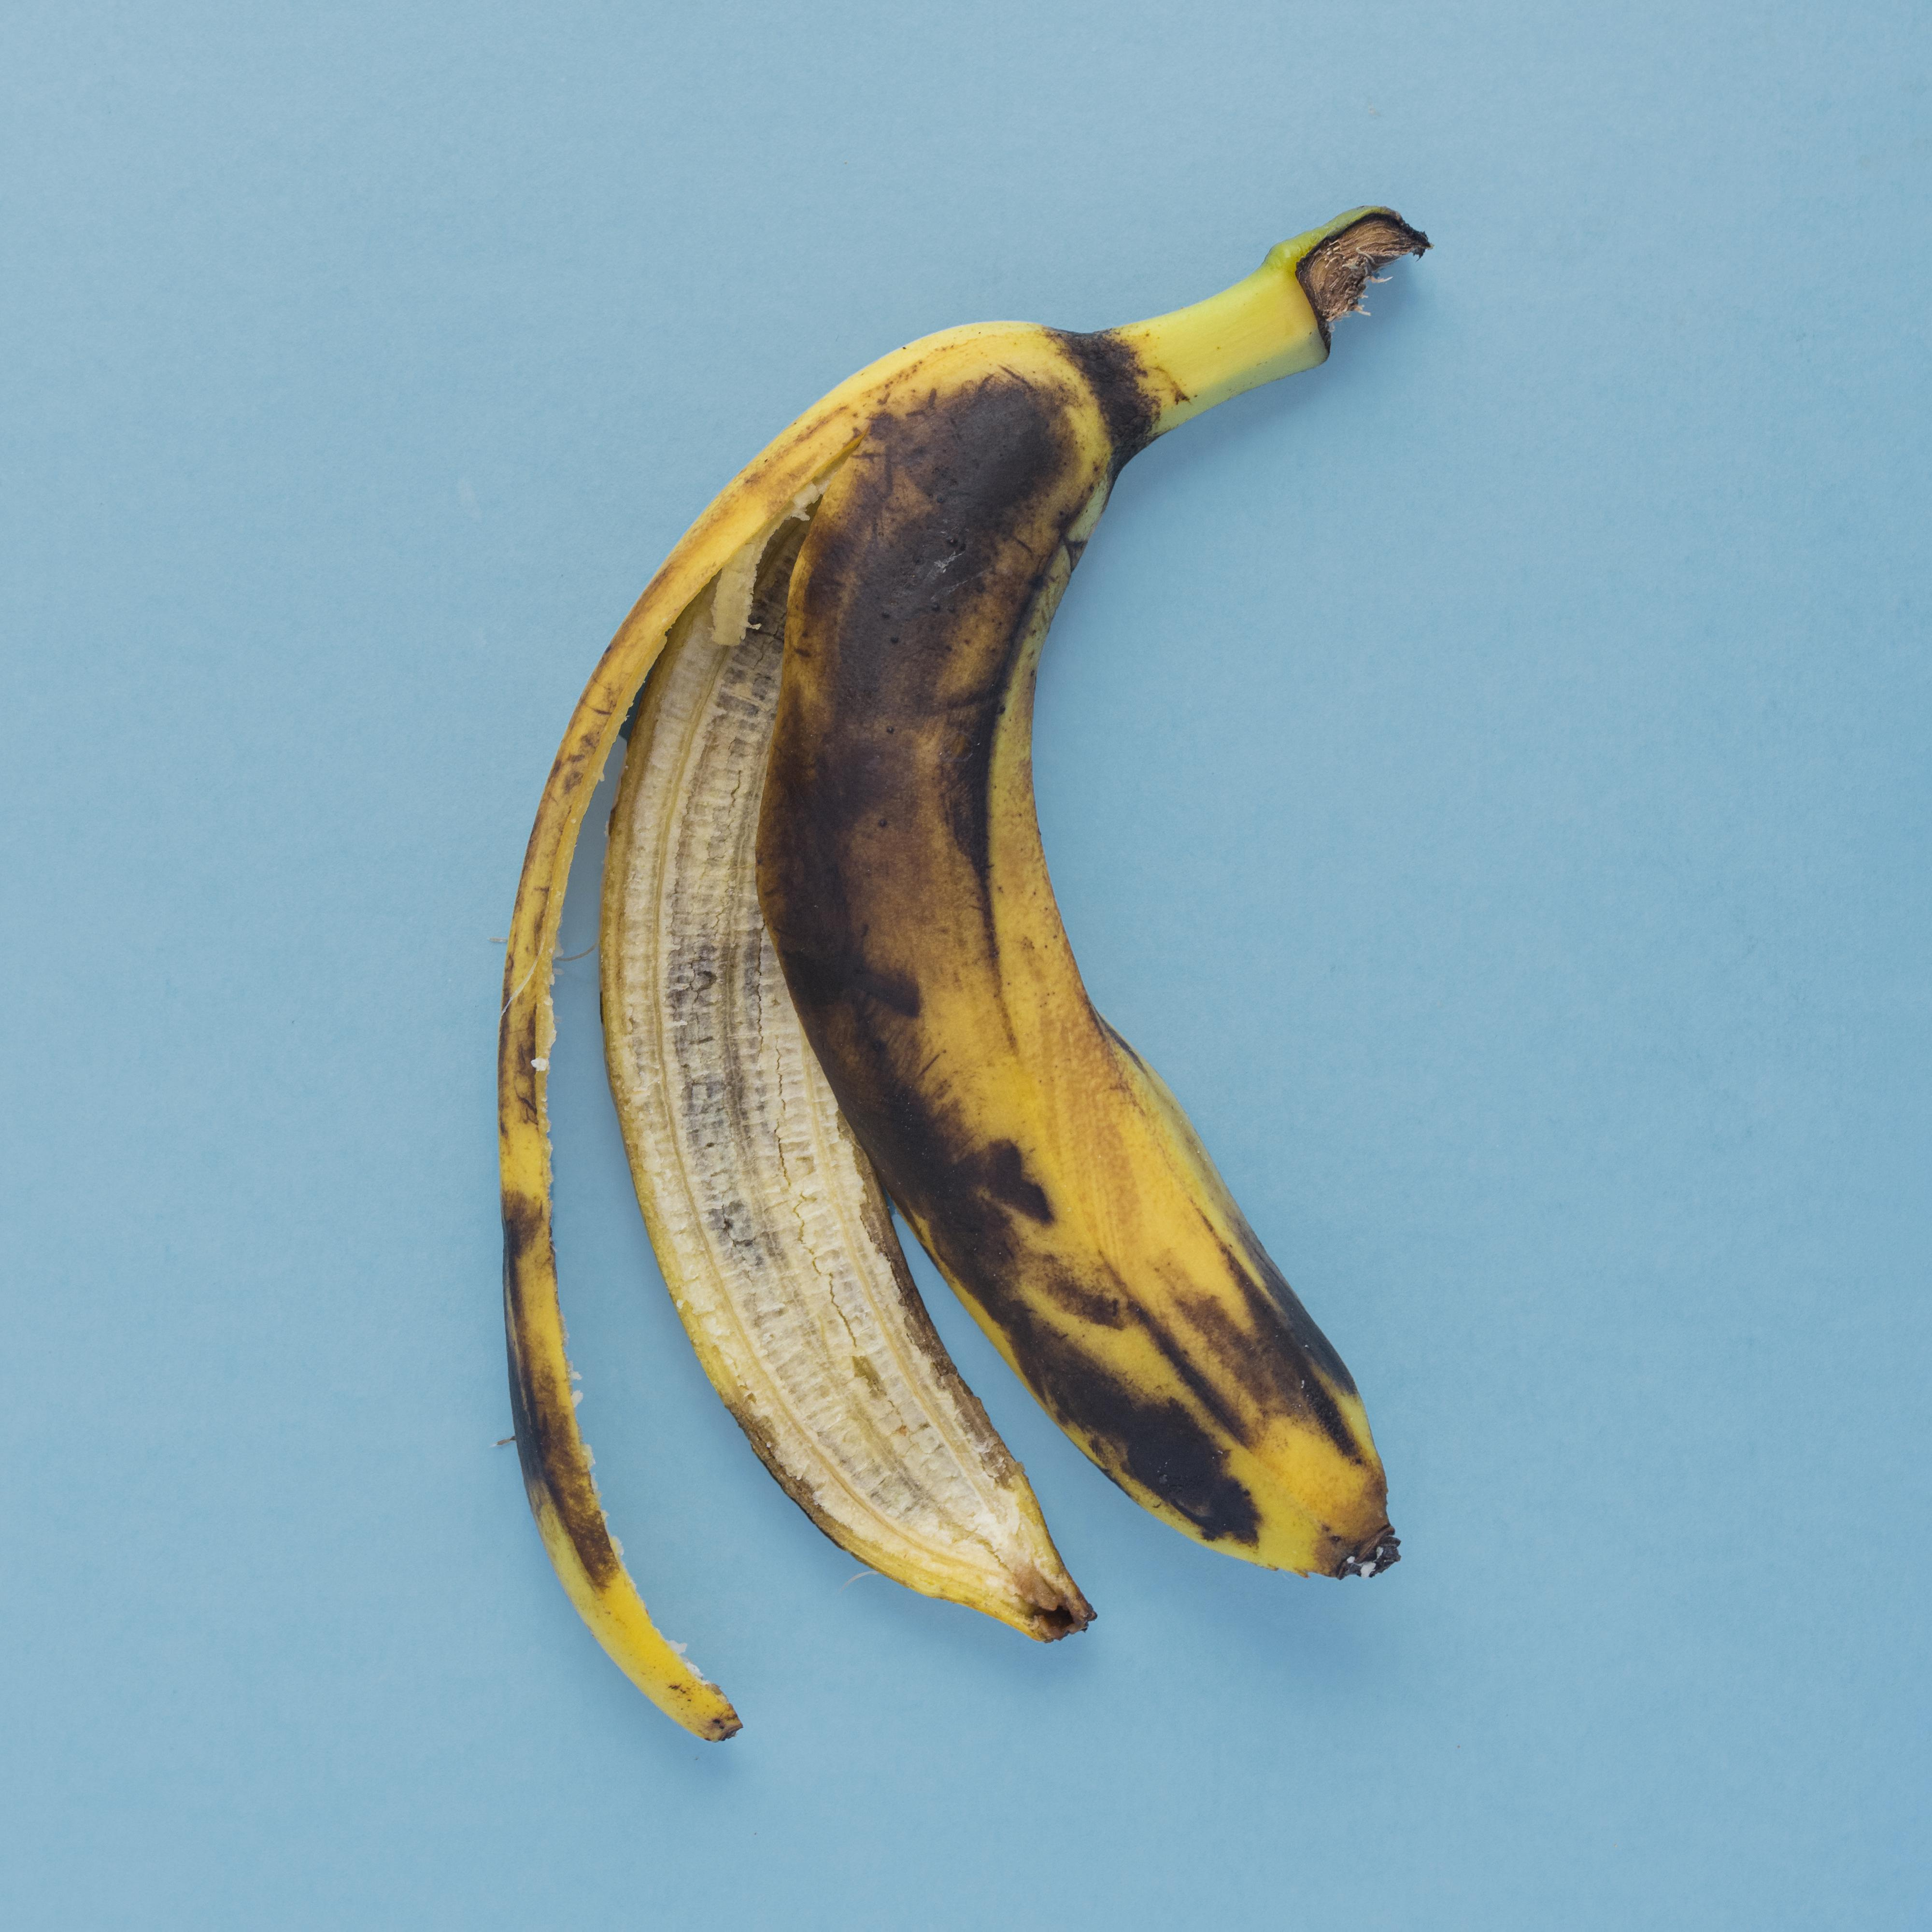rotten banana: (405, 108, 1656, 1879)
